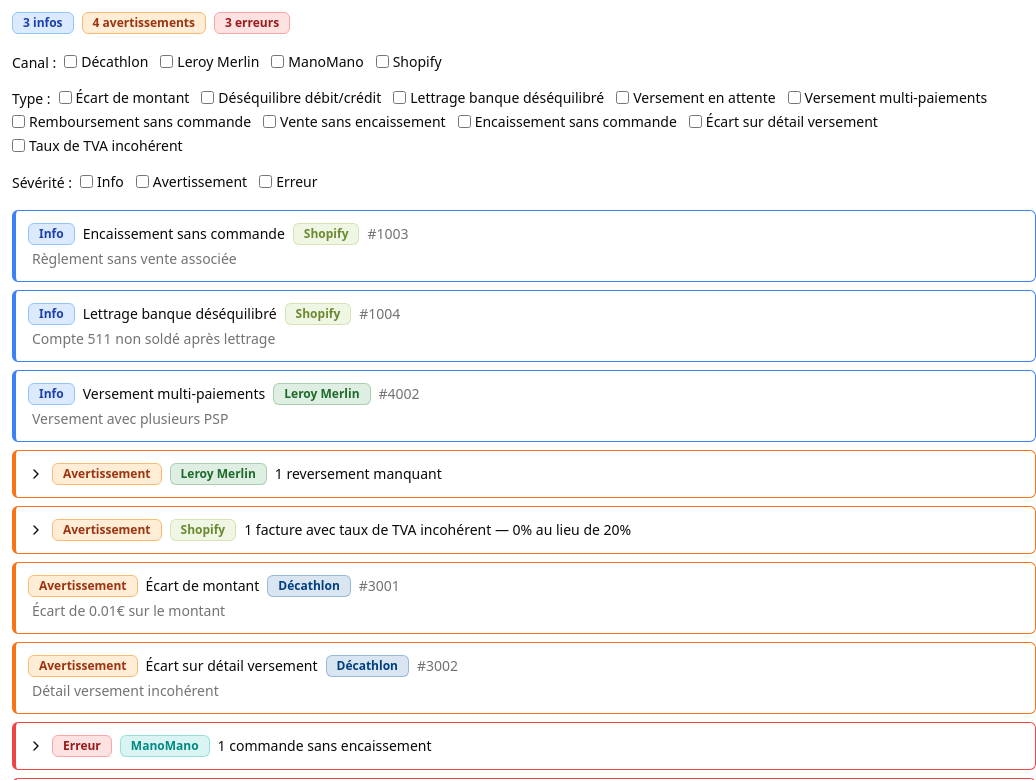
Scenario: AnomaliesPanel › filtering › updates counter after filter
Click the checkbox labelled "Erreur" at (266, 182), box [259,175,272,188]
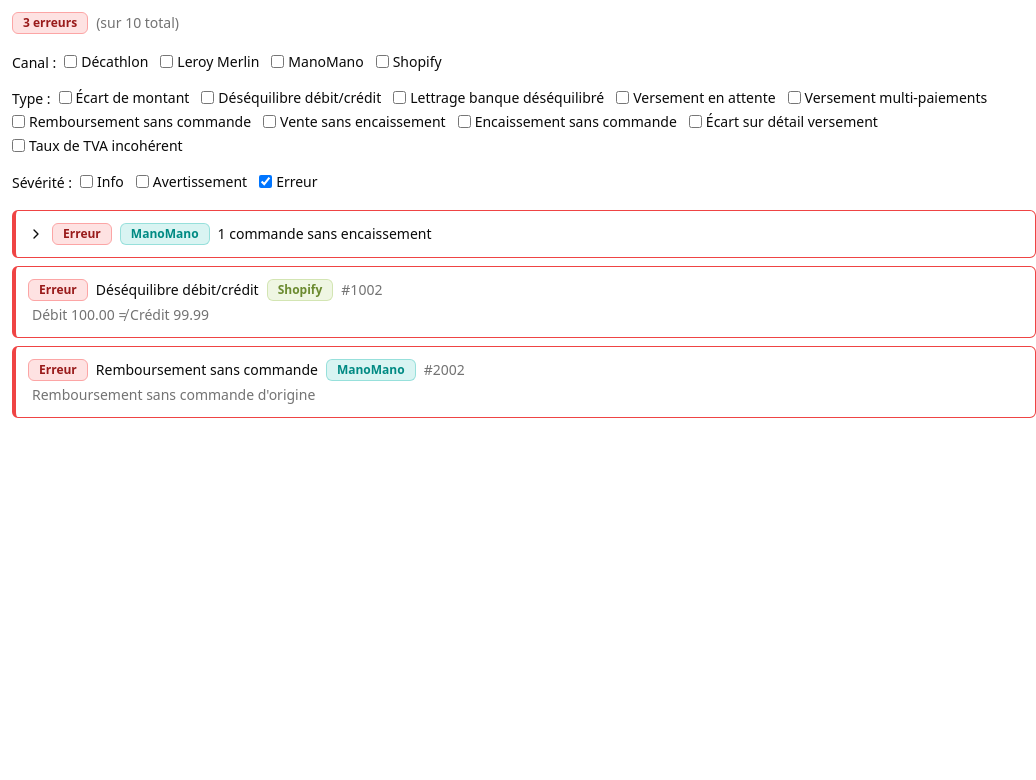
expect the text "3 erreurs" is shown: met, box [12,12,88,34]
expect the text "(sur 10 total)" is shown: met, box [96,13,179,33]
